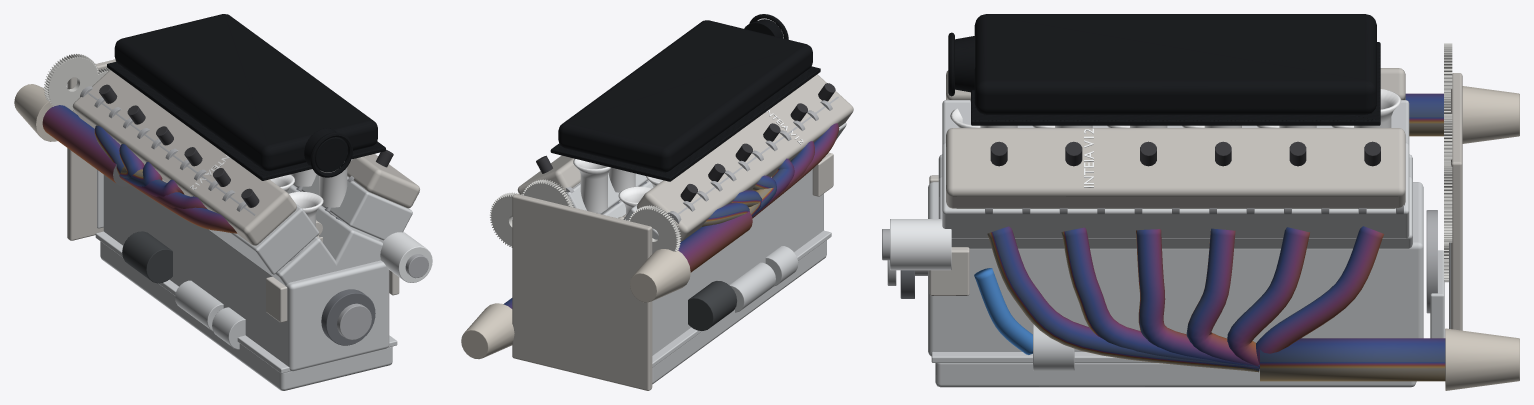
The picture shows the model from 3 angles, left to right: view 1: azimuth 30°, elevation 25°; view 2: azimuth 150°, elevation 25°; view 3: azimuth 270°, elevation 25°; orthographic projection. The views are drawn at different scales.
Parts seen in each view (by area): view 1: v12__468__Airbox · plenum central, v12__001__Bloco · cárter superior, v12__014__Tampa de comando esquerda, v12__480__Coletor de escape 6-em-1 esquerda, v12__002__Cárter seco · bandeja rasa, v12__038__Cabeçote direita, v12__013__Cabeçote esquerda, v12__455__Carcaça da cascata de engrenagens, v12__469__Airbox · flange do plenum, v12__037__Bancada de cilindros direita, v12__039__Tampa de comando direita, v12__451__Engrenagem do comando de escape esquerda (+17 smaller); view 2: v12__455__Carcaça da cascata de engrenagens, v12__468__Airbox · plenum central, v12__014__Tampa de comando esquerda, v12__001__Bloco · cárter superior, v12__480__Coletor de escape 6-em-1 esquerda, v12__469__Airbox · flange do plenum, v12__002__Cárter seco · bandeja rasa, v12__489__Coletor de escape 6-em-1 direita, v12__497__Filtro de óleo, v12_trompeta_12, v12__451__Engrenagem do comando de escape esquerda, v12__035__Bobinas de ignição esquerda (+12 smaller); view 3: v12__468__Airbox · plenum central, v12__489__Coletor de escape 6-em-1 direita, v12__039__Tampa de comando direita, v12__001__Bloco · cárter superior, v12__038__Cabeçote direita, v12__002__Cárter seco · bandeja rasa, v12__469__Airbox · flange do plenum, v12__480__Coletor de escape 6-em-1 esquerda, v12__037__Bancada de cilindros direita, v12__490__Alternador, v12__455__Carcaça da cascata de engrenagens, v12__060__Bobinas de ignição direita (+12 smaller).
Boxes of the visible parts, <box> form: v12__468__Airbox · plenum central: <box>114,14,377,171</box>; v12__001__Bloco · cárter superior: <box>103,175,389,371</box>; v12__014__Tampa de comando esquerda: <box>72,70,296,245</box>; v12__480__Coletor de escape 6-em-1 esquerda: <box>14,84,237,233</box>; v12__002__Cárter seco · bandeja rasa: <box>100,241,392,390</box>; v12__038__Cabeçote direita: <box>293,174,412,240</box>; v12__013__Cabeçote esquerda: <box>162,179,319,274</box>; v12__455__Carcaça da cascata de engrenagens: <box>67,59,115,240</box>; v12__469__Airbox · flange do plenum: <box>107,61,385,180</box>; v12__037__Bancada de cilindros direita: <box>287,185,382,271</box>; v12__039__Tampa de comando direita: <box>347,154,419,208</box>; v12__451__Engrenagem do comando de escape esquerda: <box>43,53,98,111</box>; v12__455__Carcaça da cascata de engrenagens: <box>512,194,652,390</box>; v12__468__Airbox · plenum central: <box>558,20,812,172</box>; v12__014__Tampa de comando esquerda: <box>637,74,853,241</box>; v12__001__Bloco · cárter superior: <box>652,169,823,355</box>; v12__480__Coletor de escape 6-em-1 esquerda: <box>630,123,839,302</box>; v12__469__Airbox · flange do plenum: <box>550,66,820,181</box>; v12__002__Cárter seco · bandeja rasa: <box>652,240,826,384</box>; v12__489__Coletor de escape 6-em-1 direita: <box>461,298,514,359</box>; v12__497__Filtro de óleo: <box>688,281,736,330</box>; v12_trompeta_12: <box>573,159,610,212</box>; v12__451__Engrenagem do comando de escape esquerda: <box>628,205,681,253</box>; v12__035__Bobinas de ignição esquerda: <box>680,83,835,201</box>; v12__468__Airbox · plenum central: <box>974,14,1376,114</box>; v12__489__Coletor de escape 6-em-1 direita: <box>987,226,1519,390</box>; v12__039__Tampa de comando direita: <box>946,128,1405,208</box>; v12__001__Bloco · cárter superior: <box>928,182,1423,356</box>; v12__038__Cabeçote direita: <box>942,142,1409,238</box>; v12__002__Cárter seco · bandeja rasa: <box>935,363,1416,387</box>; v12__469__Airbox · flange do plenum: <box>971,42,1380,125</box>; v12__480__Coletor de escape 6-em-1 esquerda: <box>1405,86,1519,143</box>; v12__037__Bancada de cilindros direita: <box>938,176,1412,248</box>; v12__490__Alternador: <box>890,219,951,270</box>; v12__455__Carcaça da cascata de engrenagens: <box>1451,73,1462,330</box>; v12__060__Bobinas de ignição direita: <box>990,141,1380,166</box>.
Size of the model in its own units: 0.4559 by 0.4885 by 0.888.
15 materials, 3 textured.
